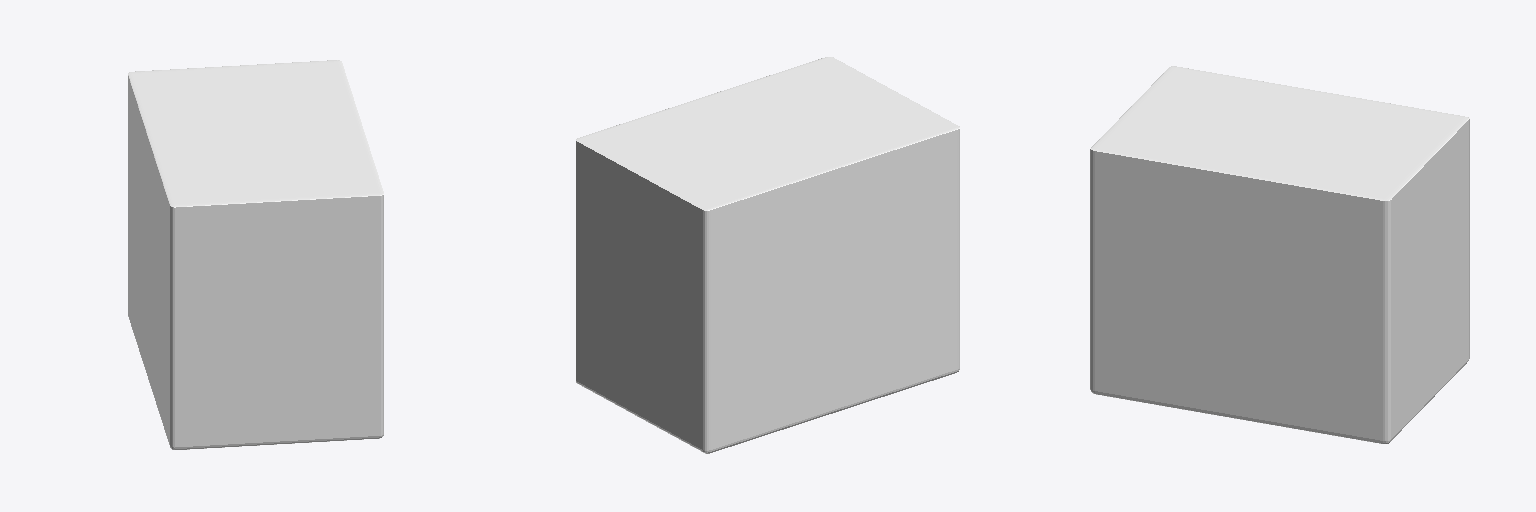
The picture shows the model from 3 angles: view 1: azimuth 30°, elevation 25°; view 2: azimuth 150°, elevation 25°; view 3: azimuth 270°, elevation 25°; orthographic projection.
Parts seen in each view (by area): view 1: Base; view 2: Base; view 3: Base.
Boxes of the visible parts, x1=… form: Base: x1=128, y1=60, x2=383, y2=449; Base: x1=576, y1=57, x2=959, y2=453; Base: x1=1090, y1=66, x2=1469, y2=443.
Size of the model in its own units: 1.07 by 0.908 by 1.27.